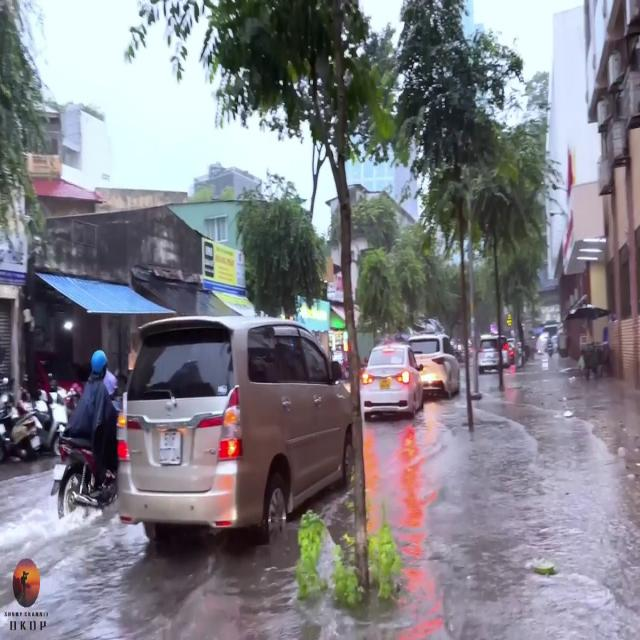bien_trang: (156, 427, 188, 470)
